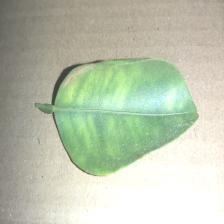greening: (34, 52, 200, 178)
